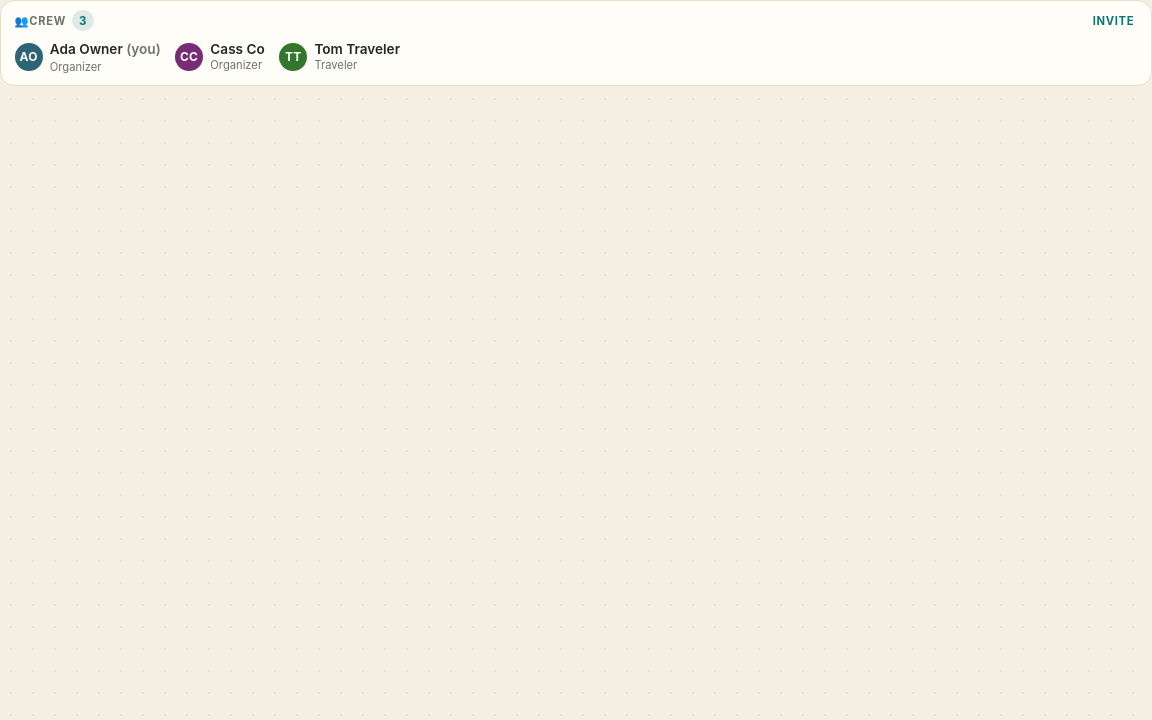
crew quick actions › names every icon, and marks the role they already have
Click the button with aria-label "Actions for Tom Traveler" at (340, 57), box x1=279 y1=41 x2=400 y2=72
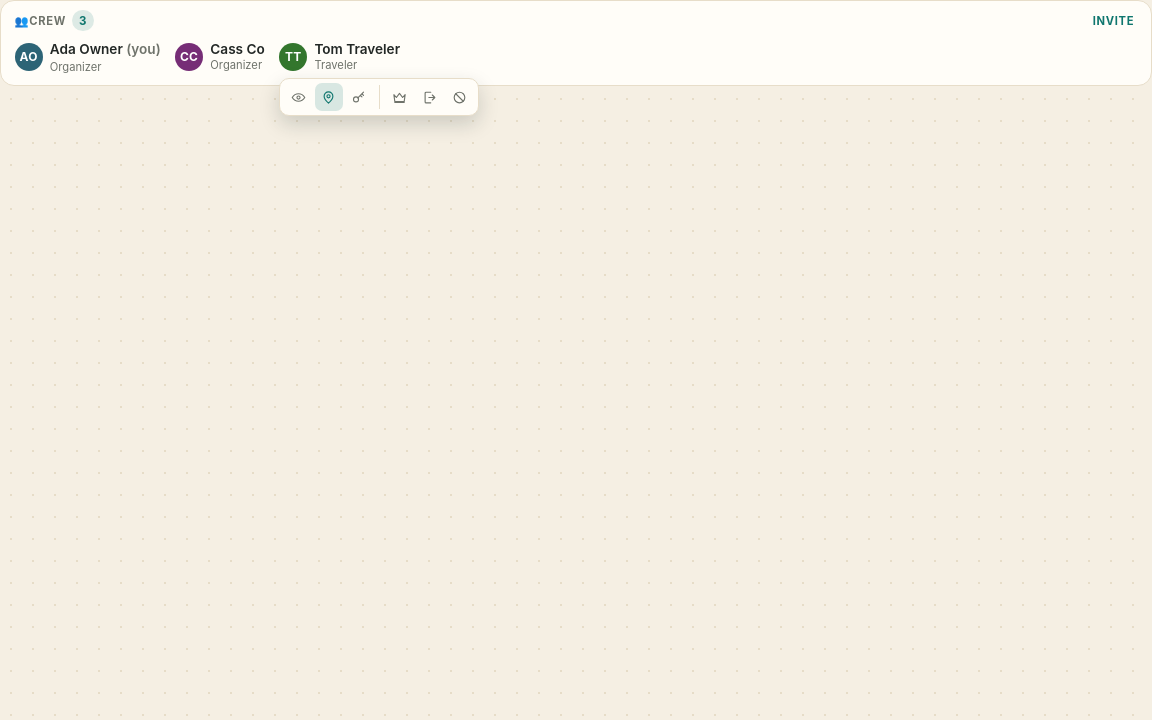
Result: the button named "Set Tom Traveler as Organizer" is shown at x1=345 y1=83 x2=373 y2=111
Result: the button named "Set Tom Traveler as Guest" is shown at x1=284 y1=83 x2=312 y2=111
Result: the button named "Make Tom Traveler the owner" is shown at x1=385 y1=83 x2=413 y2=111
